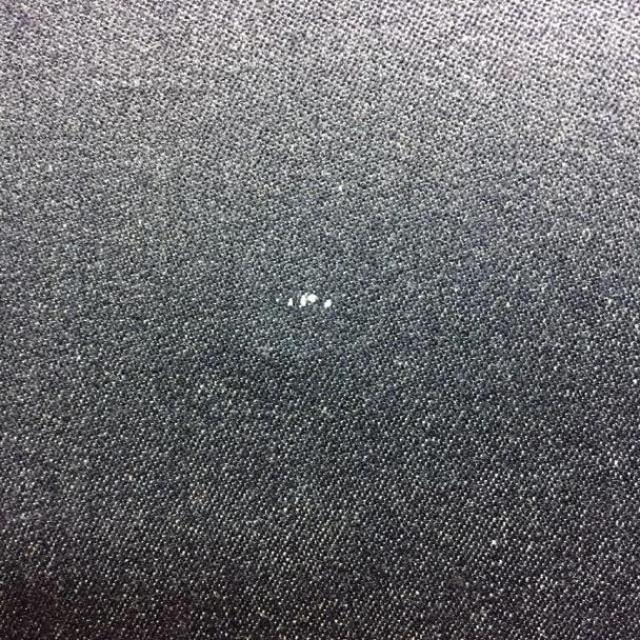Knot: (287, 293, 321, 308), (322, 299, 333, 309)
